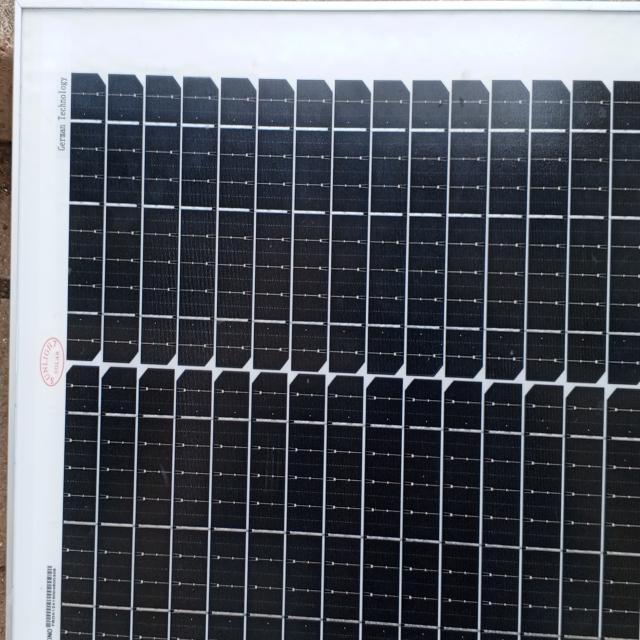Clean: (38, 29, 640, 640)
